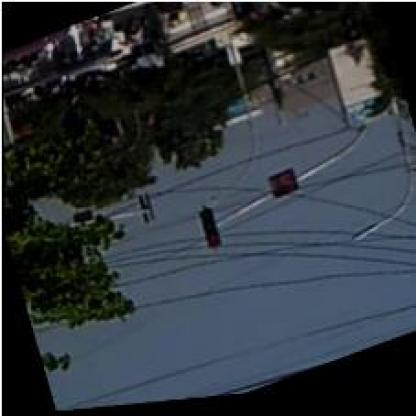red: (193, 208, 221, 254)
